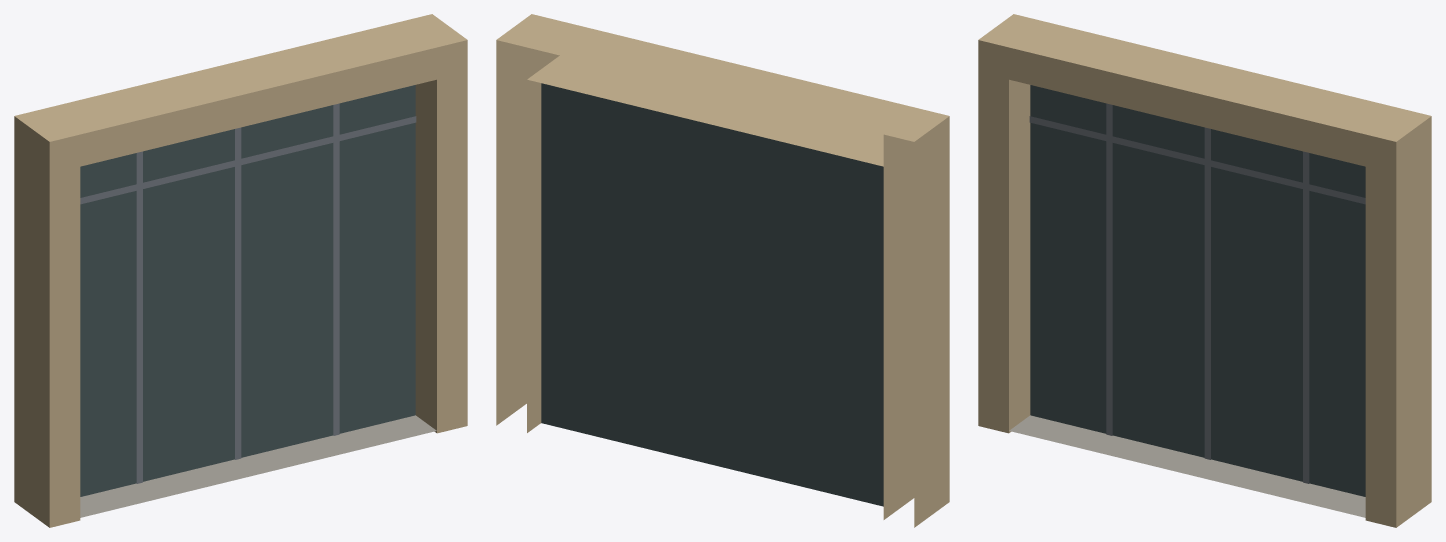
The model's file is entrance.fbx.
3 views of the same model, side by side, from view 1: azimuth 30°, elevation 25°; view 2: azimuth 150°, elevation 25°; view 3: azimuth 330°, elevation 25° (orthographic).
Visible parts, largest first — view 1: a2006/750/entrance; view 2: a2006/750/entrance; view 3: a2006/750/entrance.
Boxes of the visible parts, x1,y1,x2,y2 form: a2006/750/entrance: (14,14,467,527); a2006/750/entrance: (496,14,949,527); a2006/750/entrance: (978,14,1431,527).
Bounding box in the file's own units: 3.4 × 3 × 0.5.
